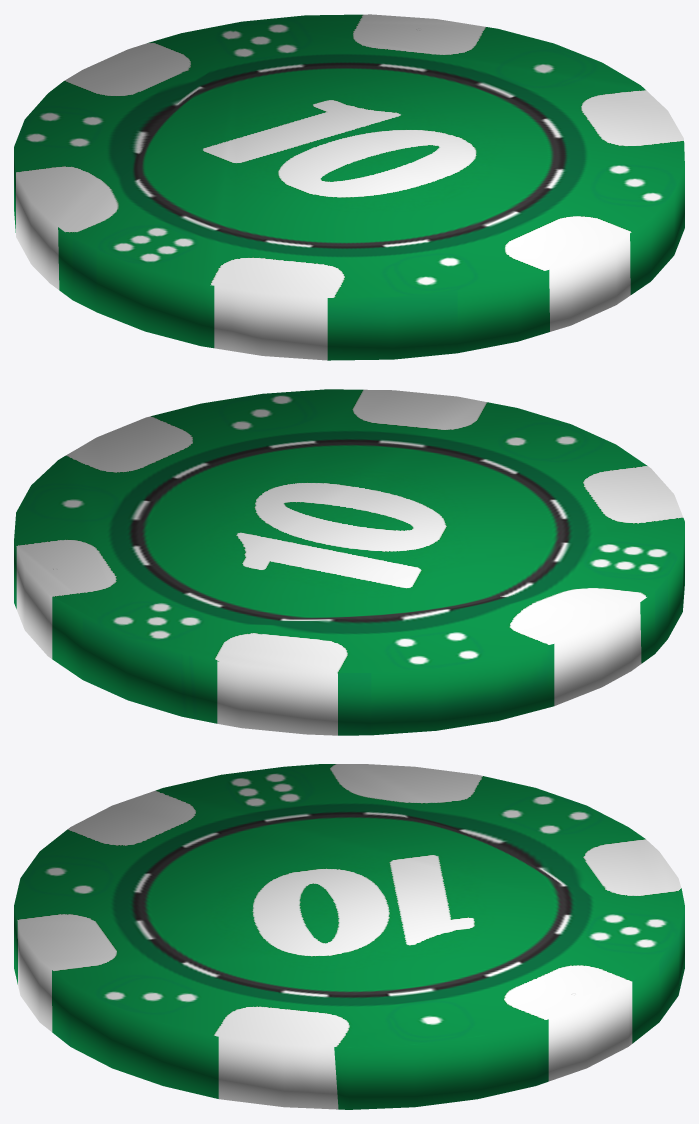
Rendered from CasinoChipLuxzyy10(1).fbx.
3 renders of one model, top to bottom at view 1: azimuth 30°, elevation 25°; view 2: azimuth 150°, elevation 25°; view 3: azimuth 270°, elevation 25°, orthographic.
Parts seen in each view (by area): view 1: Cylinder; view 2: Cylinder; view 3: Cylinder.
Boxes of the visible parts, x1,y1,x2,y2 form: Cylinder: [14, 14, 684, 360]; Cylinder: [14, 389, 684, 735]; Cylinder: [14, 764, 684, 1109].
Bounding box in the file's own units: 14.41 × 1.48 × 14.41.
